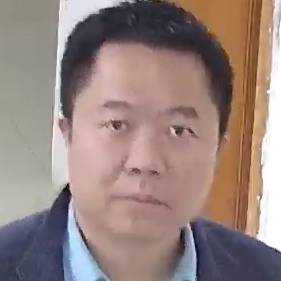cb: (55, 33, 253, 231)
